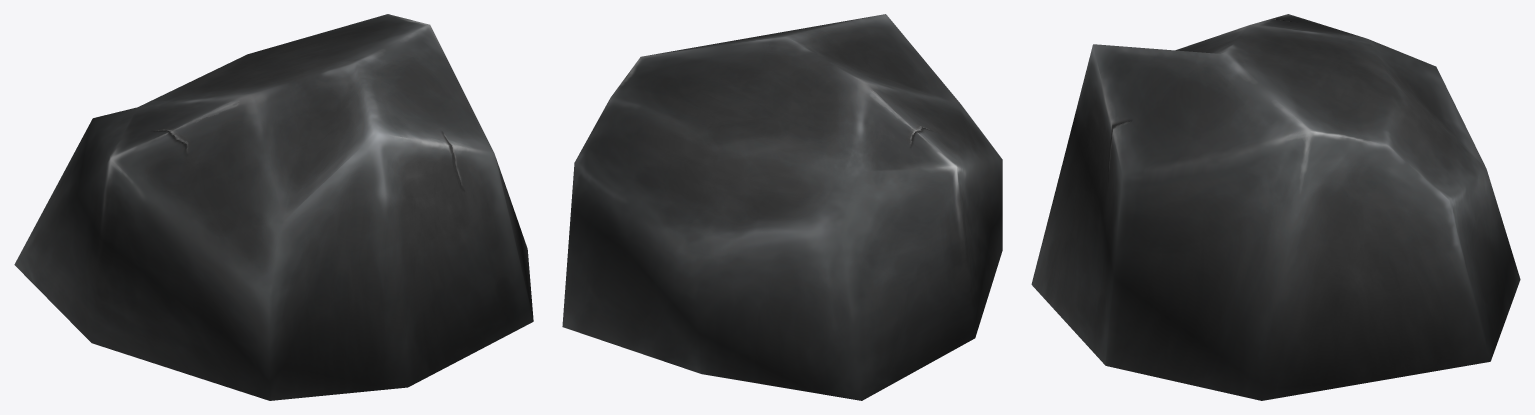
File: Stylized_Low-Poly_Dark_Rock_Boulder.glb
The picture shows the model from 3 angles, left to right: view 1: azimuth 30°, elevation 25°; view 2: azimuth 150°, elevation 25°; view 3: azimuth 270°, elevation 25°; orthographic projection. The views are drawn at different scales.
Visible parts, largest first — view 1: unnamed; view 2: unnamed; view 3: unnamed.
Boxes of the visible parts, x1=… form: unnamed: x1=14, y1=14, x2=533, y2=400; unnamed: x1=562, y1=14, x2=1002, y2=400; unnamed: x1=1031, y1=14, x2=1520, y2=400.
Bounding box in the file's own units: 2.63 × 1.45 × 2.55.
1 material, 1 textured.
